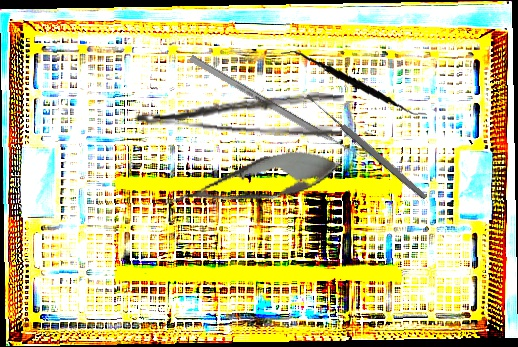Dressing Forceps: (134, 79, 345, 141)
Micro Scissor: (156, 139, 347, 226)
Pusher: (188, 54, 369, 164)
Spatula Surgical: (281, 38, 427, 130)
Surgical Spoon: (304, 91, 429, 202)
